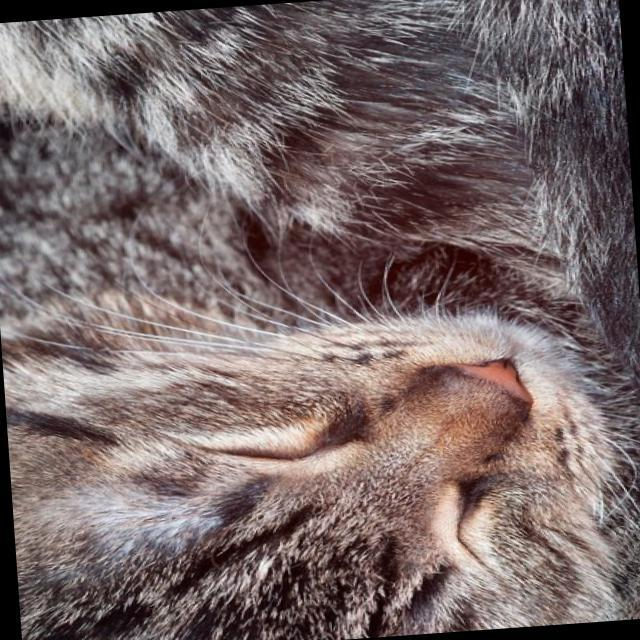Healthy skin: (0, 4, 289, 166), (38, 424, 258, 608), (369, 49, 539, 247), (118, 202, 179, 266)
